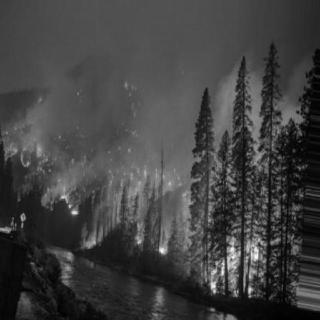Fire: (140, 106, 298, 298), (6, 103, 142, 234)
